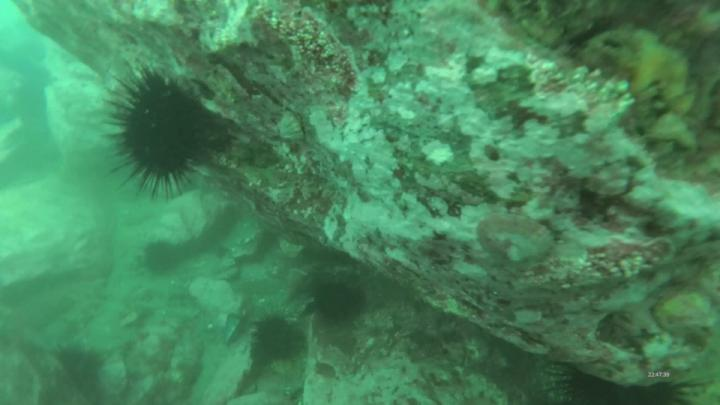echinus: (91, 72, 210, 203), (245, 310, 307, 372), (50, 344, 107, 398), (309, 280, 372, 325), (141, 238, 184, 281)
